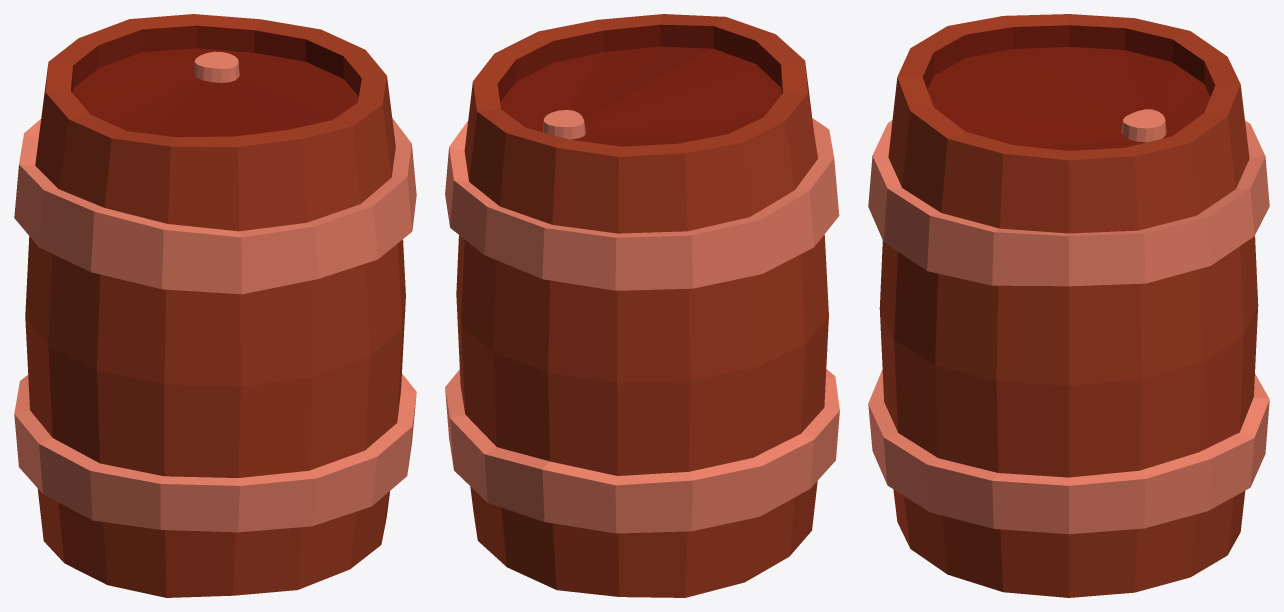
File: barril.glb
3 renders of one model, left to right at view 1: azimuth 30°, elevation 25°; view 2: azimuth 150°, elevation 25°; view 3: azimuth 270°, elevation 25°, orthographic. The views are drawn at different scales.
Visible parts, largest first — view 1: bigbarrel_02; view 2: bigbarrel_02; view 3: bigbarrel_02.
Boxes of the visible parts, x1=… form: bigbarrel_02: x1=14, y1=14, x2=416, y2=597; bigbarrel_02: x1=445, y1=14, x2=839, y2=597; bigbarrel_02: x1=868, y1=14, x2=1269, y2=597.
Bounding box in the file's own units: 0.9334 × 1.17 × 0.93.
Materials: 1 (1 with a texture image).
